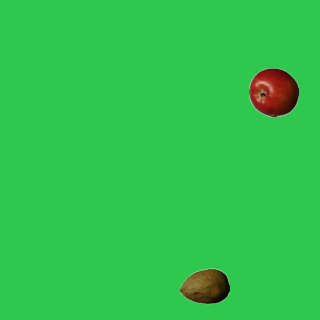Apple Braeburn: (248, 67, 298, 117)
Papaya: (179, 261, 229, 311)
